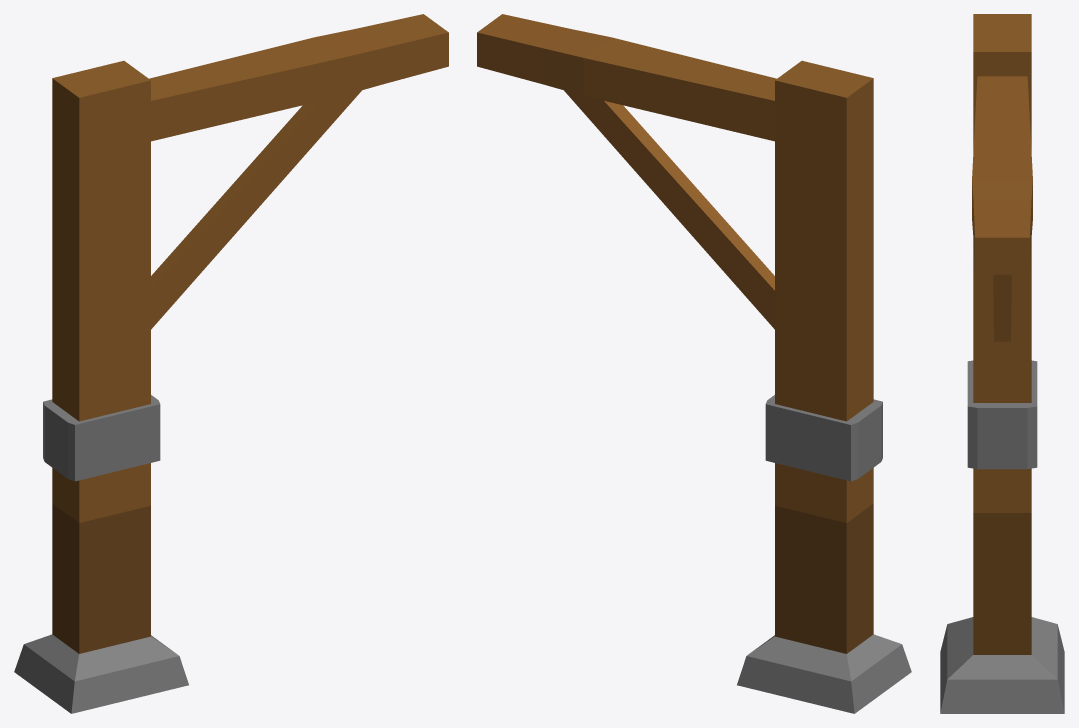
Rendered from Poste de lampada.fbx.
3 renders of one model, left to right at view 1: azimuth 30°, elevation 25°; view 2: azimuth 150°, elevation 25°; view 3: azimuth 270°, elevation 25°, orthographic. The views are drawn at different scales.
Parts seen in each view (by area): view 1: Cube; view 2: Cube; view 3: Cube.
Boxes of the visible parts, x1,y1,x2,y2 form: Cube: (14,14,448,713); Cube: (477,14,911,713); Cube: (940,14,1064,713).
Bounding box in the file's own units: 181 × 263 × 45.59.
